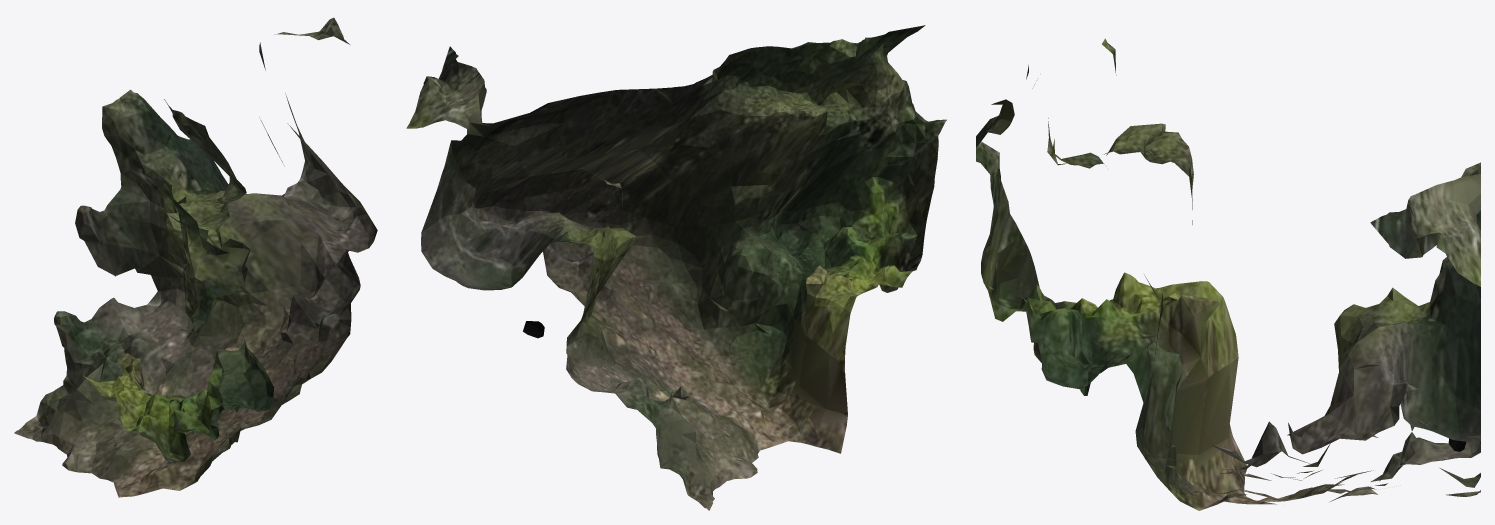
The picture shows the model from 3 angles, left to right: view 1: azimuth 30°, elevation 25°; view 2: azimuth 150°, elevation 25°; view 3: azimuth 270°, elevation 25°; orthographic projection. The views are drawn at different scales.
Size of the model in its own units: 11.8 by 11.8 by 11.8.
Materials: 5 (5 with a texture image).
